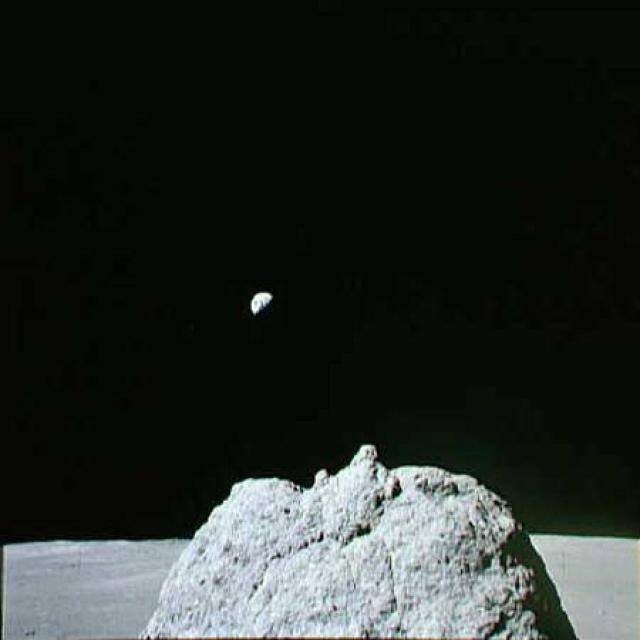rock: (138, 434, 580, 638)
